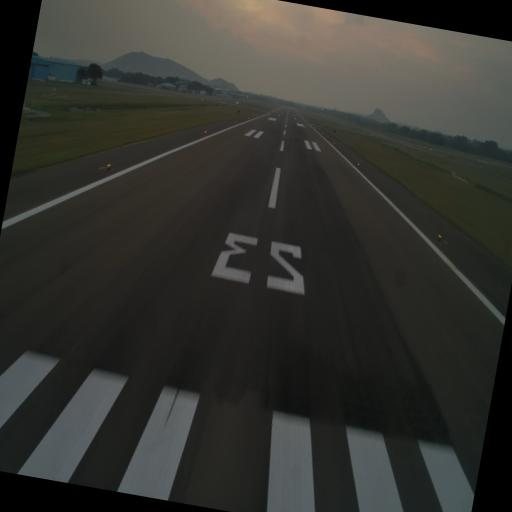on: (104, 160, 111, 172), (435, 231, 442, 240)
